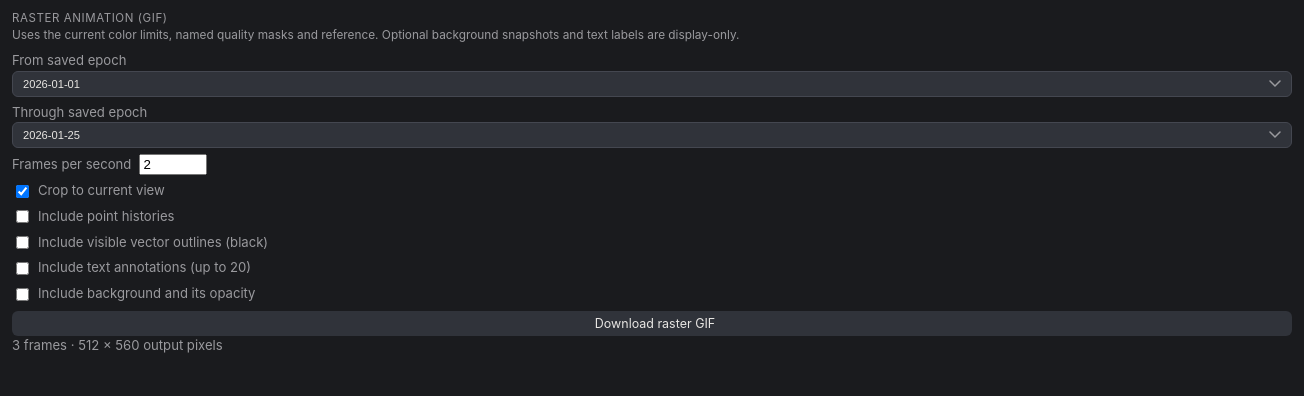
Test case: raster GIF export controls › requires one to five visible points instead of silently truncating them
Expected: the button "Download raster GIF" is enabled, [12,311,1292,336]
What coordinates should you click on to do the following:
click the checkbox named "Include point histories in GIF"
I would click on:
 (22, 217)
Its box is [16,210,29,223].
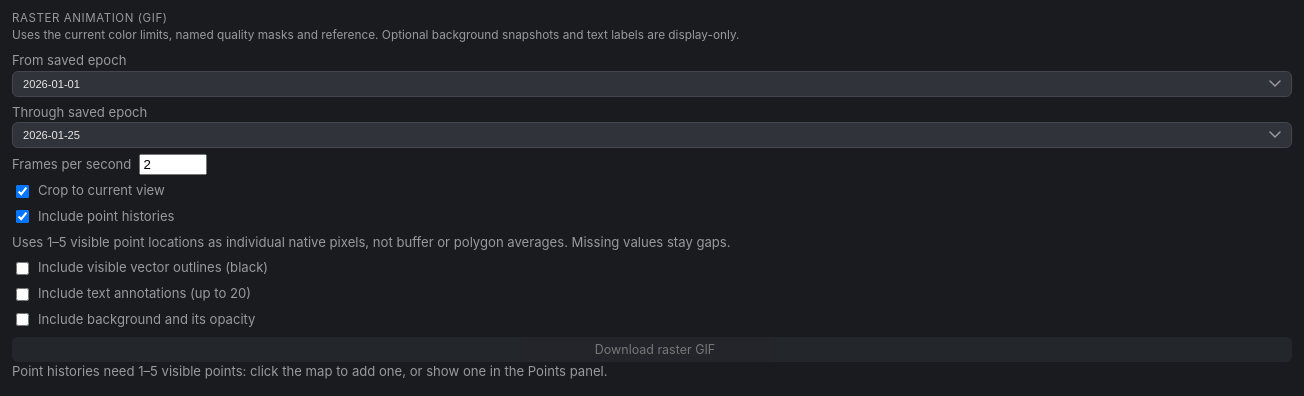
Result: the button "Download raster GIF" is disabled at [12,336,1292,362]
